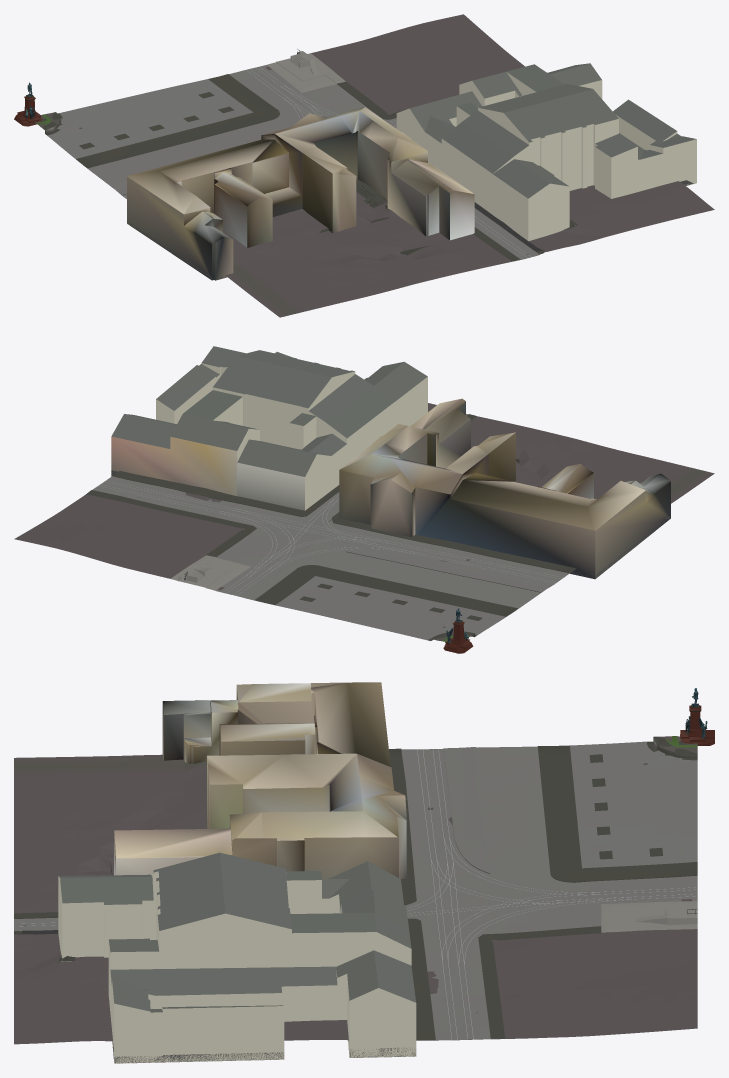
3 renders of one model, top to bottom at view 1: azimuth 30°, elevation 25°; view 2: azimuth 150°, elevation 25°; view 3: azimuth 270°, elevation 25°, orthographic. The views are drawn at different scales.
Visible parts, largest first — view 1: c_p00_p00; view 2: c_p00_p00; view 3: c_p00_p00.
Boxes of the visible parts, <box> form: c_p00_p00: <box>14,14,714,317</box>; c_p00_p00: <box>14,346,714,653</box>; c_p00_p00: <box>14,682,714,1063</box>.
Bounding box in the file's own units: 139 × 22.56 × 131.
